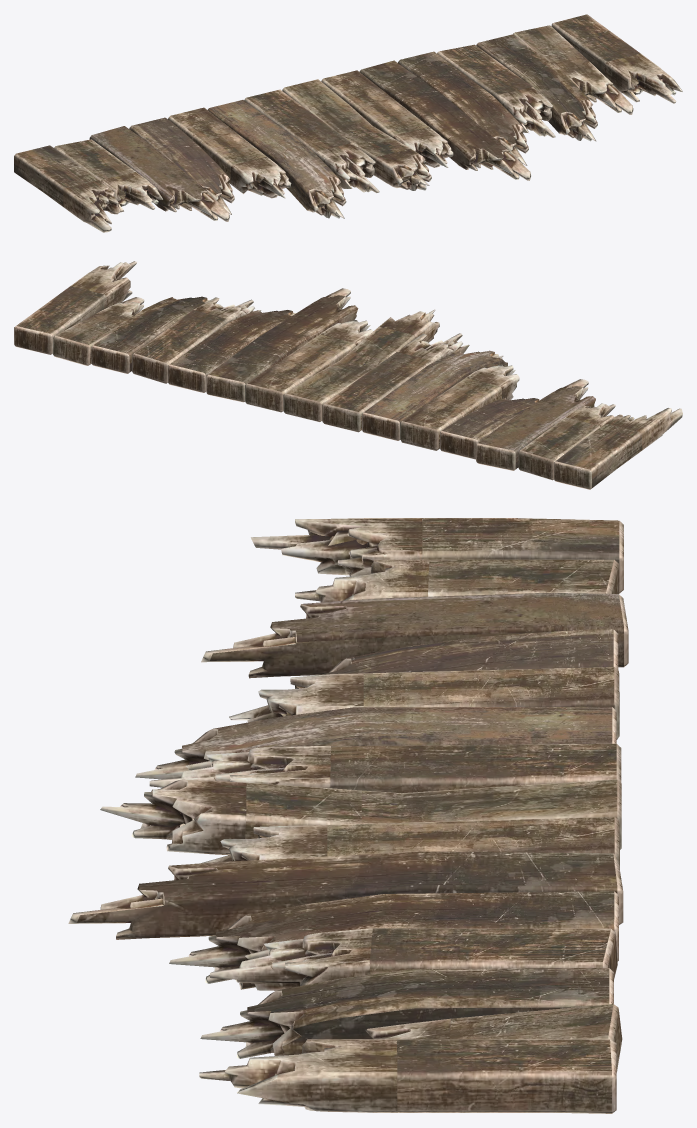
The picture shows the model from 3 angles, top to bottom: view 1: azimuth 30°, elevation 25°; view 2: azimuth 150°, elevation 25°; view 3: azimuth 270°, elevation 25°; orthographic projection. The views are drawn at different scales.
Visible parts, largest first — view 1: SM_Human_Ruins_Floor_Wood_Dmg_01_LOD0; view 2: SM_Human_Ruins_Floor_Wood_Dmg_01_LOD0; view 3: SM_Human_Ruins_Floor_Wood_Dmg_01_LOD0.
Part boxes in pixels (left/top/right/bottom): SM_Human_Ruins_Floor_Wood_Dmg_01_LOD0: left=14, top=14, right=682, bottom=232; SM_Human_Ruins_Floor_Wood_Dmg_01_LOD0: left=14, top=261, right=682, bottom=489; SM_Human_Ruins_Floor_Wood_Dmg_01_LOD0: left=68, top=518, right=628, bottom=1113.
Size of the model in its own units: 4 by 0.2651 by 1.69.
Materials: 1 (1 with a texture image).
